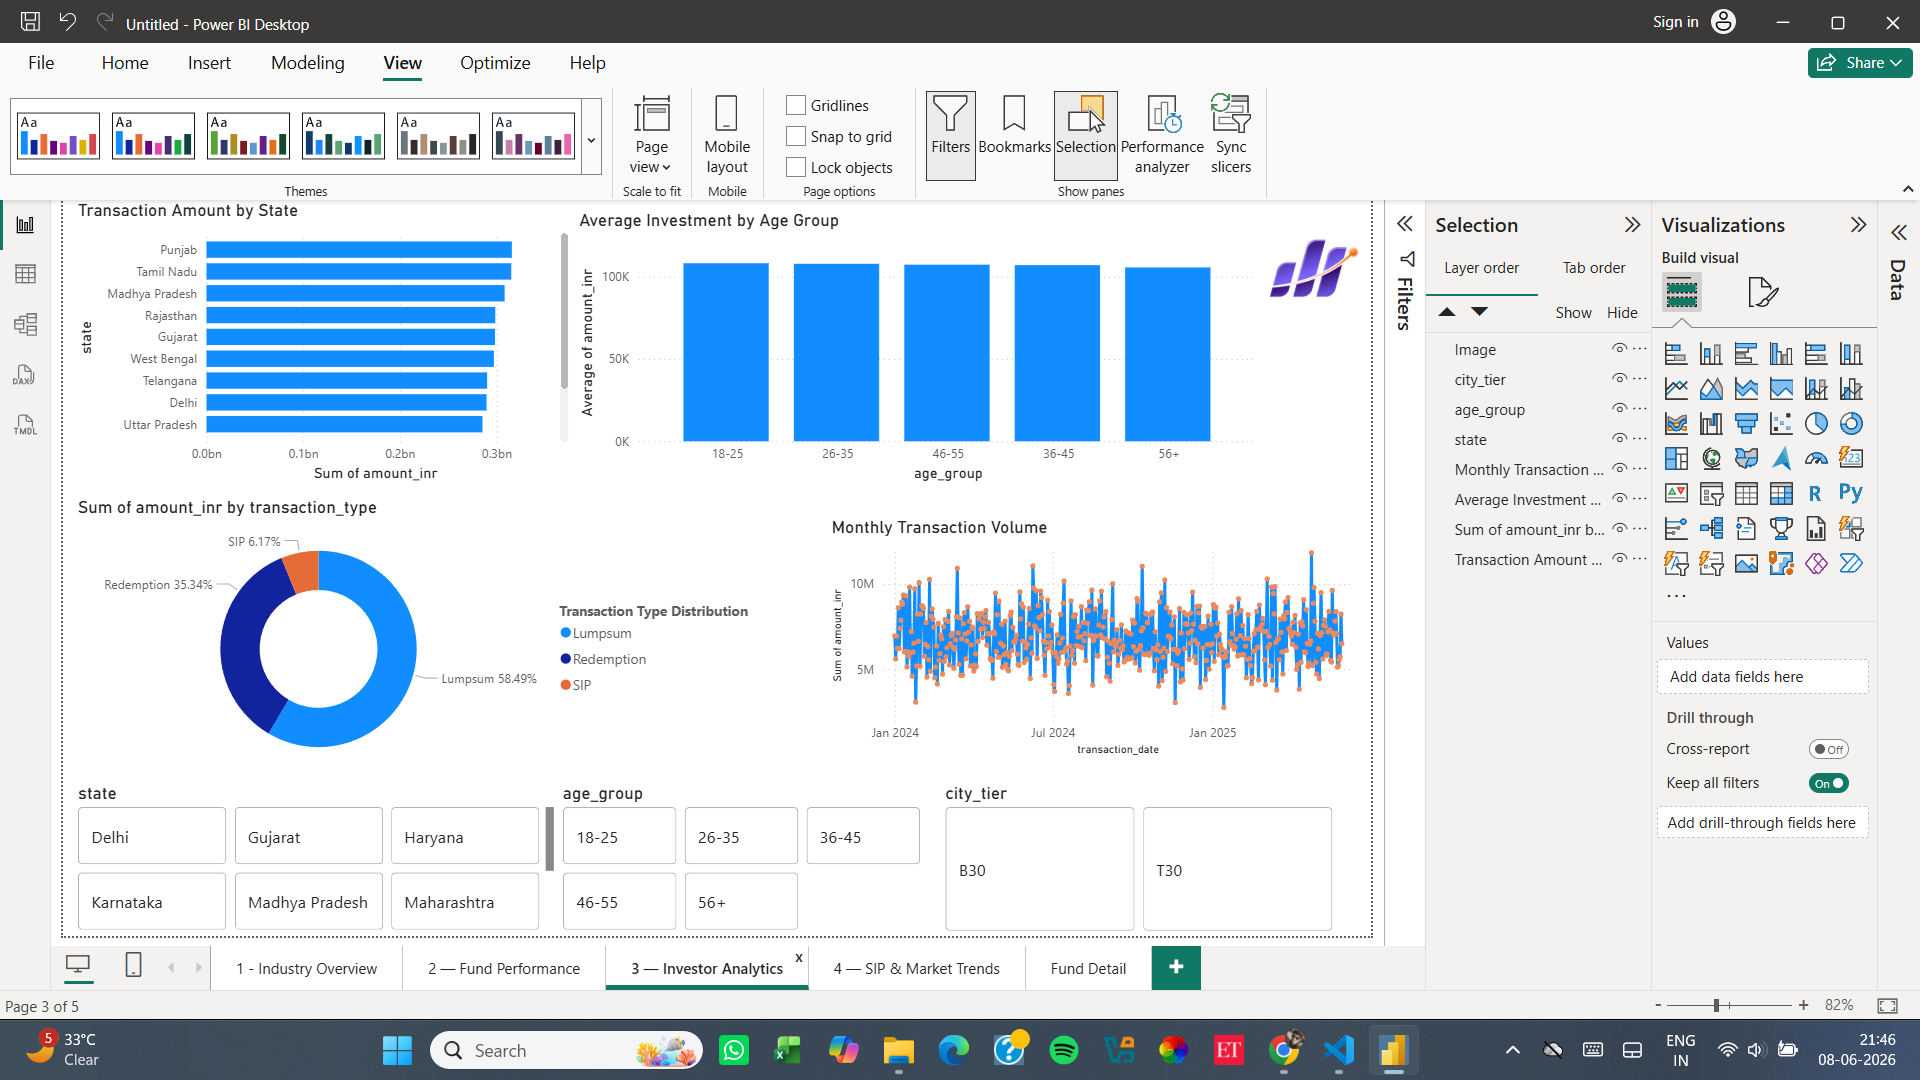

What the dashboard file says about the page in this screenshot:
{"tool":"powerbi","page":{"name":"3 — Investor Analytics","canvas":[1280,720],"ordinal":2},"visuals":[{"type":"clusteredBarChart","title":"Transaction Amount by State","fields":{"Category":["08_investor_transactions_clean.state"],"Y":["Sum(08_investor_transactions_clean.amount_inr)"]},"box":[9.6,0,489.9,279.9],"z":0},{"type":"donutChart","fields":{"Category":["08_investor_transactions_clean.transaction_type"],"Y":["Sum(08_investor_transactions_clean.amount_inr)"]},"box":[9.6,289.5,673.8,279.9],"z":1},{"type":"clusteredColumnChart","title":"Average Investment by Age Group","fields":{"Category":["08_investor_transactions_clean.age_group"],"Y":["Avg(08_investor_transactions_clean.amount_inr)"]},"box":[500.1,9.8,673.8,270.2],"z":2},{"type":"lineChart","title":"Monthly Transaction Volume","fields":{"Y":["Sum(08_investor_transactions_clean.amount_inr)"],"Category":["08_investor_transactions_clean.transaction_date"]},"box":[747.2,309.6,533.1,239.6],"z":3},{"type":"advancedSlicerVisual","fields":{"Values":["08_investor_transactions_clean.state"]},"box":[9.4,569.5,475.2,150.8],"z":4},{"type":"advancedSlicerVisual","fields":{"Values":["08_investor_transactions_clean.age_group"]},"box":[484.6,569.5,359.4,150.8],"z":5},{"type":"advancedSlicerVisual","fields":{"Values":["08_investor_transactions_clean.city_tier"]},"box":[858.9,569.5,389.1,150.8],"z":6},{"type":"image","box":[1166.6,0,113.7,134.5],"z":7}]}

Visuals, with their boxes on the page's 1280x720 design canvas (x1, y1, x2, y2). These are canvas units, not pixel positions in the 1920x1080 screenshot, which may show the page scaled, cropped or inside an application window:
"Transaction Amount by State" clusteredBarChart: 10, 0, 500, 280
donutChart - 08_investor_transactions_clean.transaction_type x Sum(08_investor_transactions_clean.amount_inr): 10, 290, 683, 569
"Average Investment by Age Group" clusteredColumnChart: 500, 10, 1174, 280
"Monthly Transaction Volume" lineChart: 747, 310, 1280, 549
advancedSlicerVisual - 08_investor_transactions_clean.state: 9, 570, 485, 720
advancedSlicerVisual - 08_investor_transactions_clean.age_group: 485, 570, 844, 720
advancedSlicerVisual - 08_investor_transactions_clean.city_tier: 859, 570, 1248, 720
image: 1167, 0, 1280, 134
